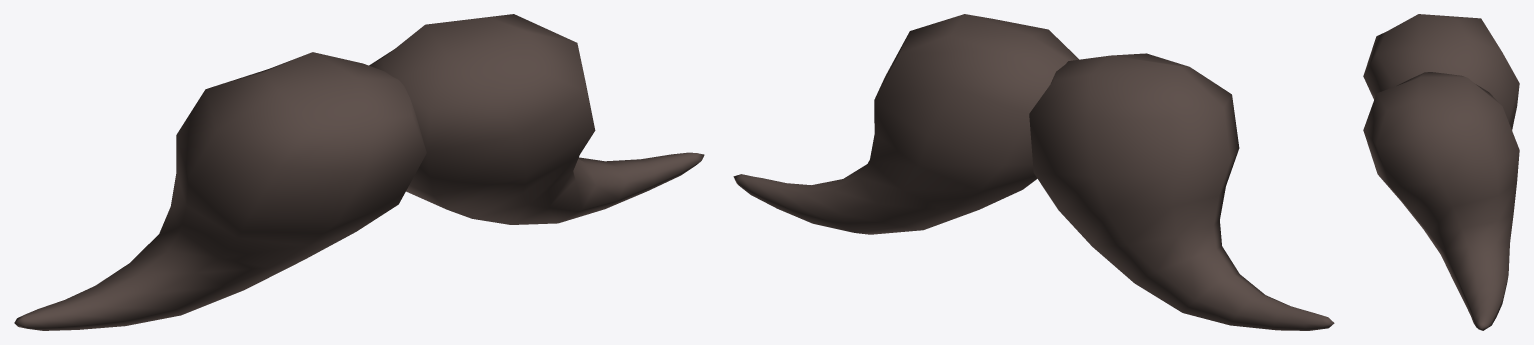
File: Mustache_01.glb
The picture shows the model from 3 angles, left to right: view 1: azimuth 30°, elevation 25°; view 2: azimuth 150°, elevation 25°; view 3: azimuth 270°, elevation 25°; orthographic projection. The views are drawn at different scales.
Parts seen in each view (by area): view 1: Mustache_01; view 2: Mustache_01; view 3: Mustache_01.
Part boxes in pixels (x1,y1,x2,y2): Mustache_01: (14, 14, 704, 330); Mustache_01: (733, 14, 1334, 330); Mustache_01: (1363, 14, 1519, 330).
Size of the model in its own units: 0.2245 by 0.0728 by 0.0613.
1 material, 1 textured.
